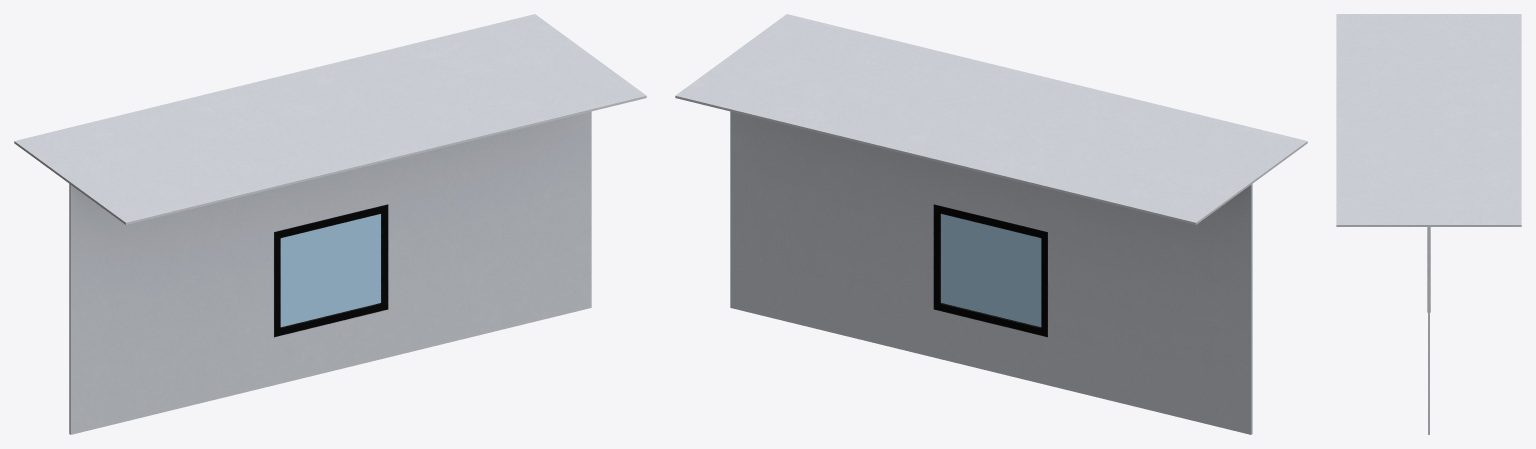
File: 6_1_L1_one_way_mirror.fbx
The picture shows the model from 3 angles, left to right: view 1: azimuth 30°, elevation 25°; view 2: azimuth 150°, elevation 25°; view 3: azimuth 270°, elevation 25°; orthographic projection. The views are drawn at different scales.
Visible parts, largest first — view 1: wall_geo, one_way_mirror_geo, mirror_frame_geo; view 2: wall_geo, one_way_mirror_geo, mirror_frame_geo; view 3: wall_geo.
Boxes of the visible parts, x1,y1,x2,y2 form: wall_geo: (14, 14, 646, 434); one_way_mirror_geo: (280, 214, 380, 327); mirror_frame_geo: (274, 204, 388, 337); wall_geo: (675, 14, 1307, 434); one_way_mirror_geo: (941, 214, 1041, 326); mirror_frame_geo: (933, 204, 1047, 337); wall_geo: (1336, 14, 1521, 434).
Size of what is drawn, in the model's own units: 615 by 285 by 228.
1 material, 1 textured.
